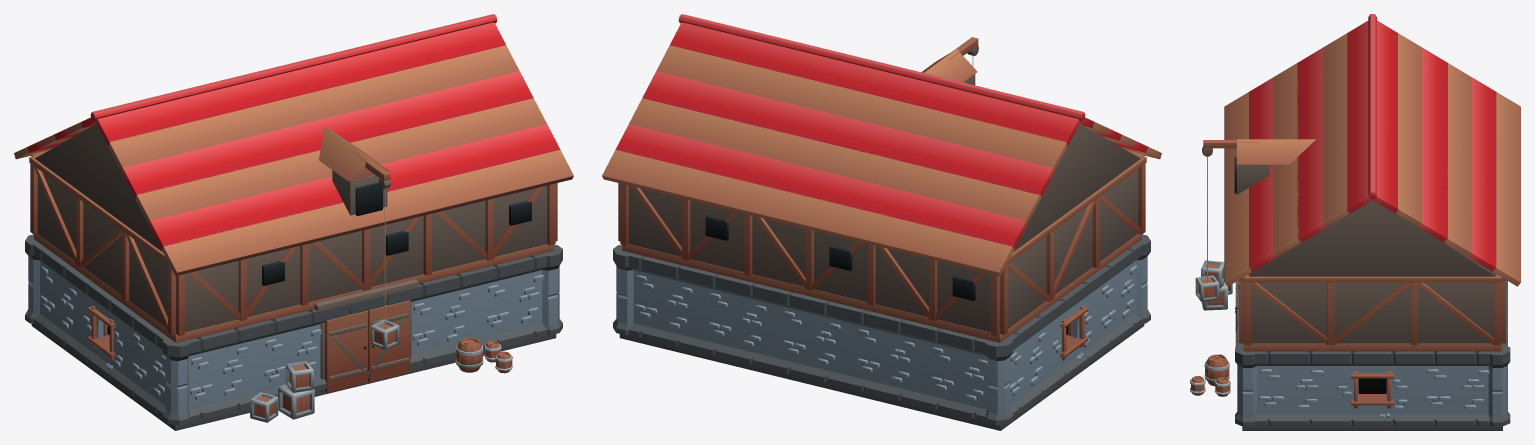
File: harbor_warehouse.glb
3 views of the same model, side by side, from view 1: azimuth 30°, elevation 25°; view 2: azimuth 150°, elevation 25°; view 3: azimuth 270°, elevation 25° (orthographic). The views are drawn at different scales.
Parts seen in each view (by area): view 1: harbor_warehouse; view 2: harbor_warehouse; view 3: harbor_warehouse.
Boxes of the visible parts, bbox=[...] form: harbor_warehouse: bbox=[14, 14, 573, 430]; harbor_warehouse: bbox=[602, 14, 1161, 430]; harbor_warehouse: bbox=[1190, 14, 1520, 430].
Size of the model in its own units: 15.2 by 9.69 by 11.92.
2 materials, 2 textured.
